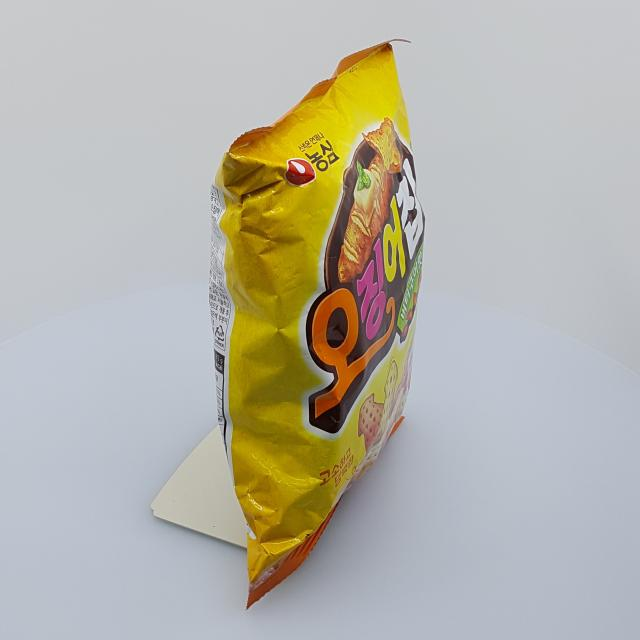-83G: (210, 39, 426, 611)
